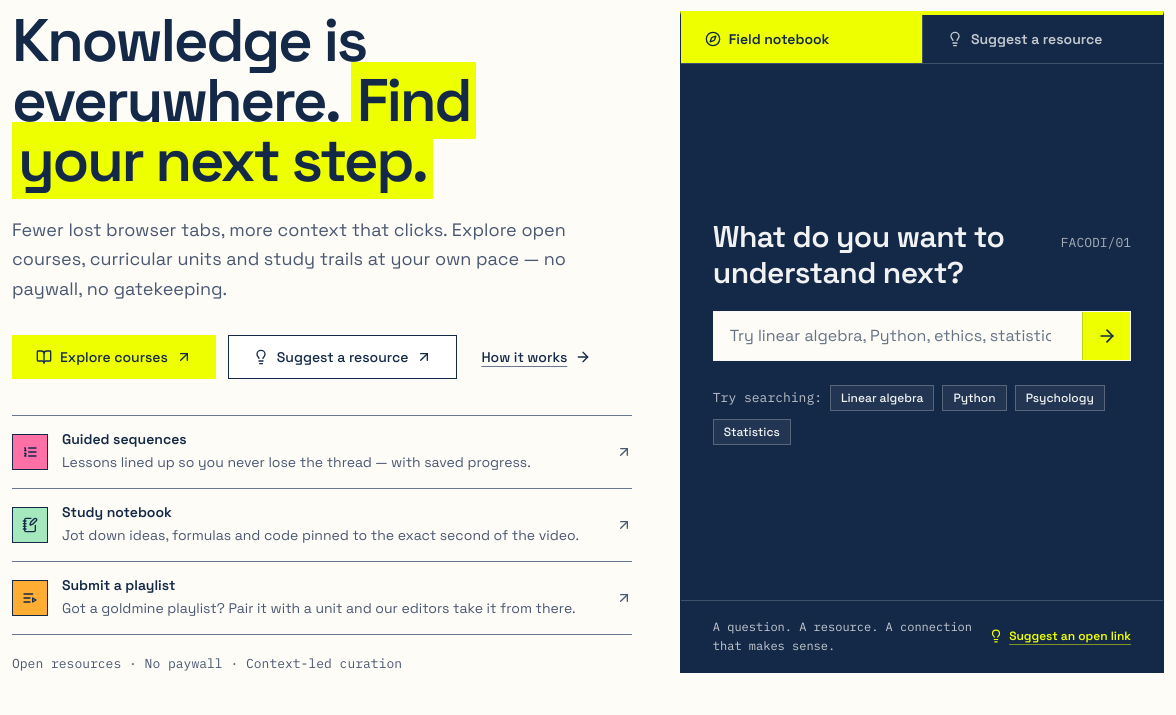
it: HomeHero › supports switching to the suggest notebook tab, live URL recognition, validation, and /suggest?url= routing
Step 1. Click the button "Suggest an open link" → point(1060, 636), box [989, 628, 1131, 644]
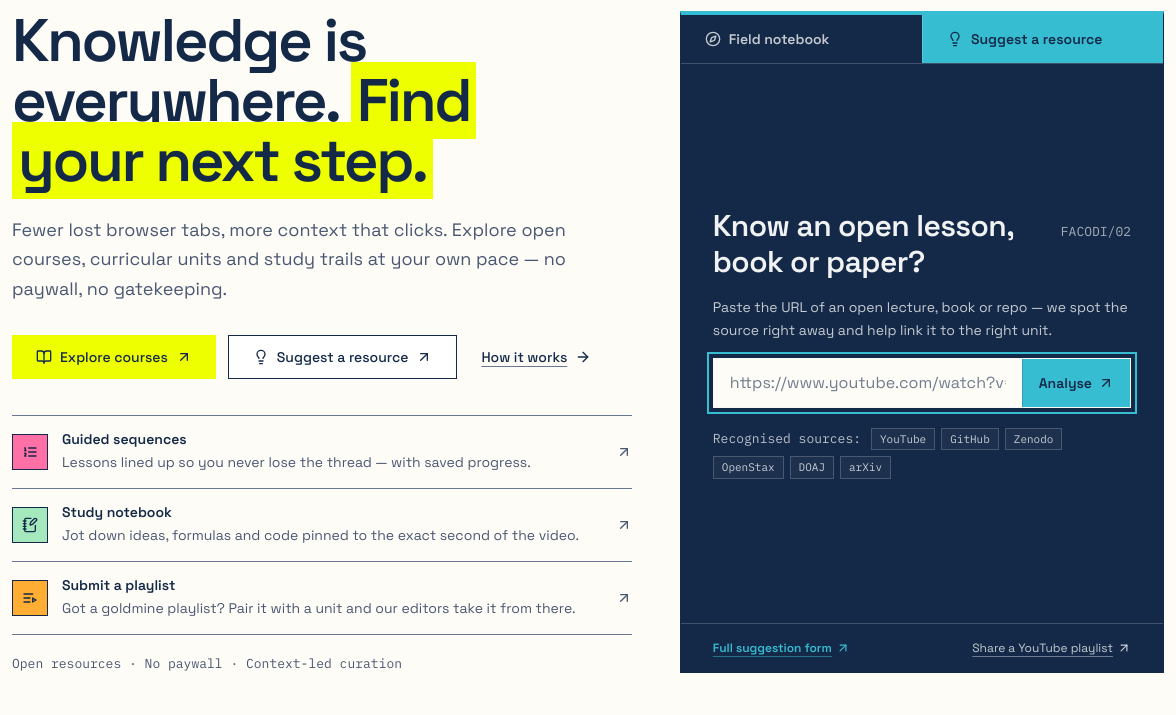
Step 2. Type "not-a-valid-url" into the field labelled "Know an open lesson, book or paper?" → point(868, 383), box [714, 359, 1022, 407]
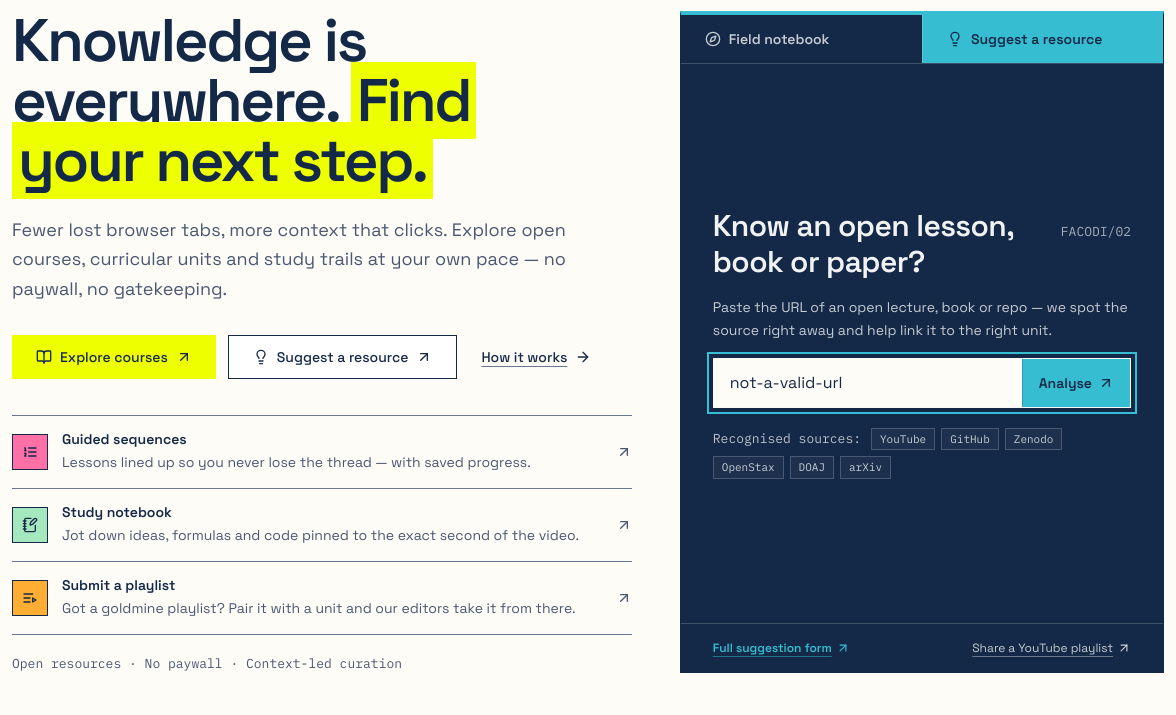
Step 3. Click the button with aria-label "Analyse resource on the suggestion page" → point(1076, 383), box [1022, 359, 1130, 407]
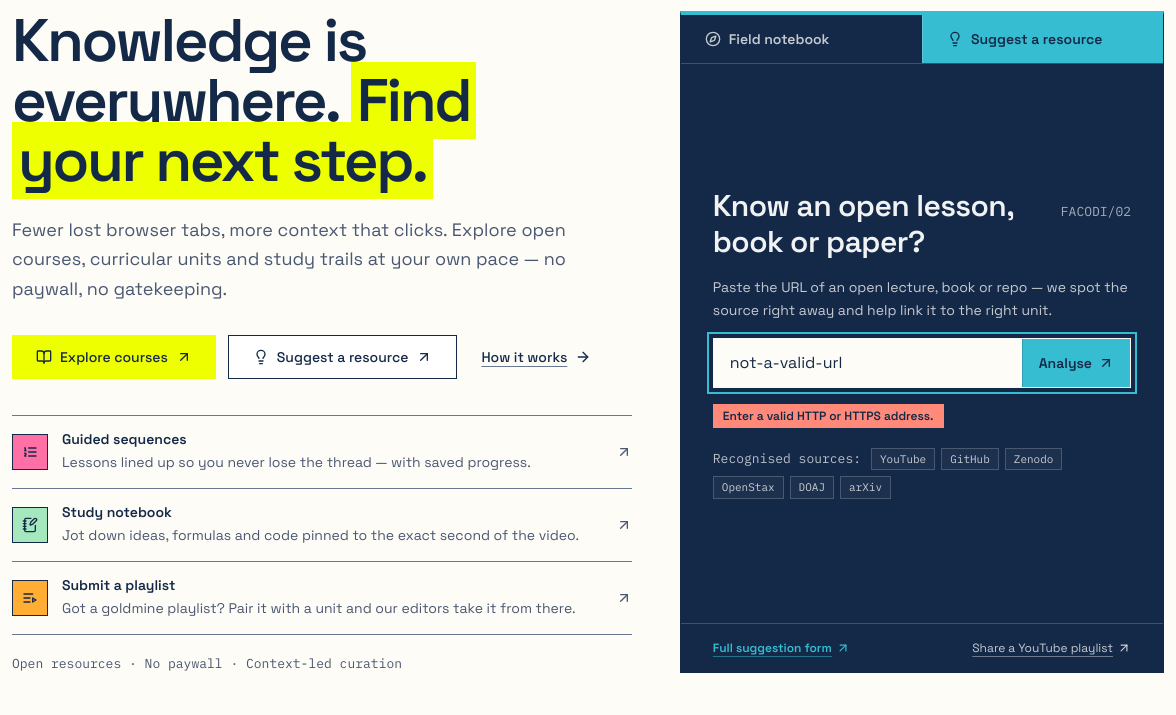
Expected: the message reads "Enter a valid HTTP or HTTPS address.", [723, 408, 934, 424]
Step 4. Clear the field labelled "Know an open lesson, book or paper?" → point(868, 363), box [714, 339, 1022, 387]
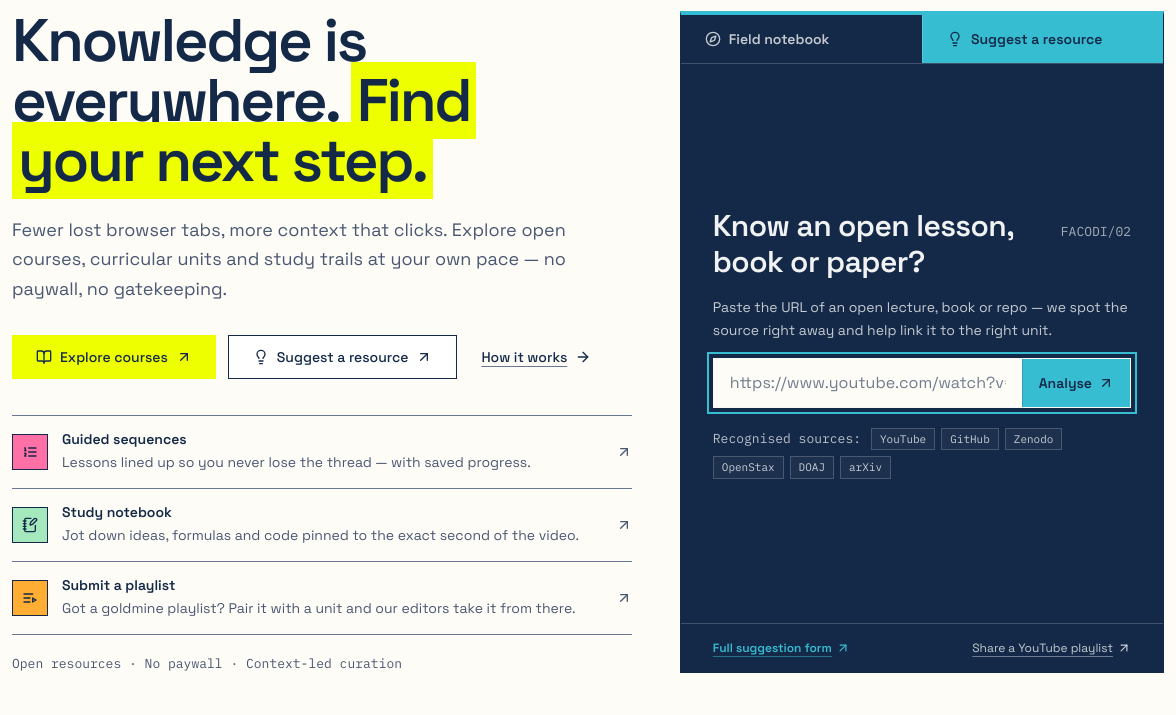
Step 5. Type "https://www.youtube.com/watch?v=kjBOesZCoqc" into the field labelled "Know an open lesson, book or paper?" → point(868, 383), box [714, 359, 1022, 407]
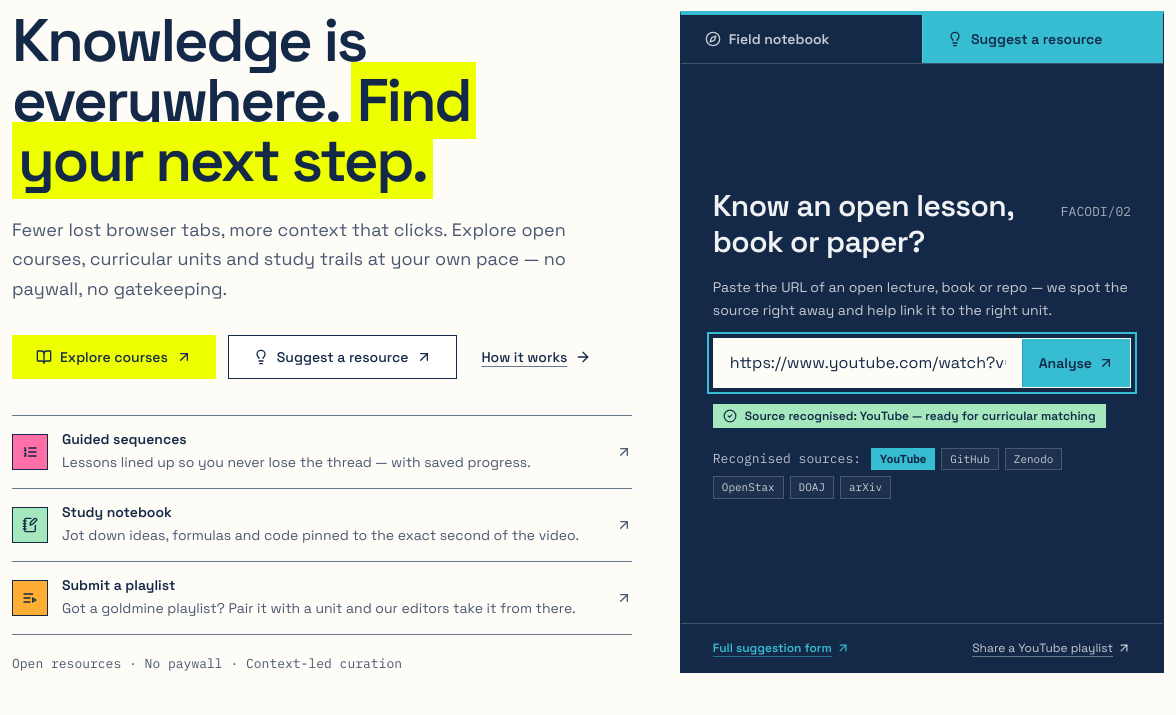
Expected: the message reads "Source recognised: YouTube — ready for curricular matching", [745, 408, 1096, 424]
Step 6. Click the button with aria-label "Analyse resource on the suggestion page" → point(1076, 363), box [1022, 339, 1130, 387]
(page scrolled)
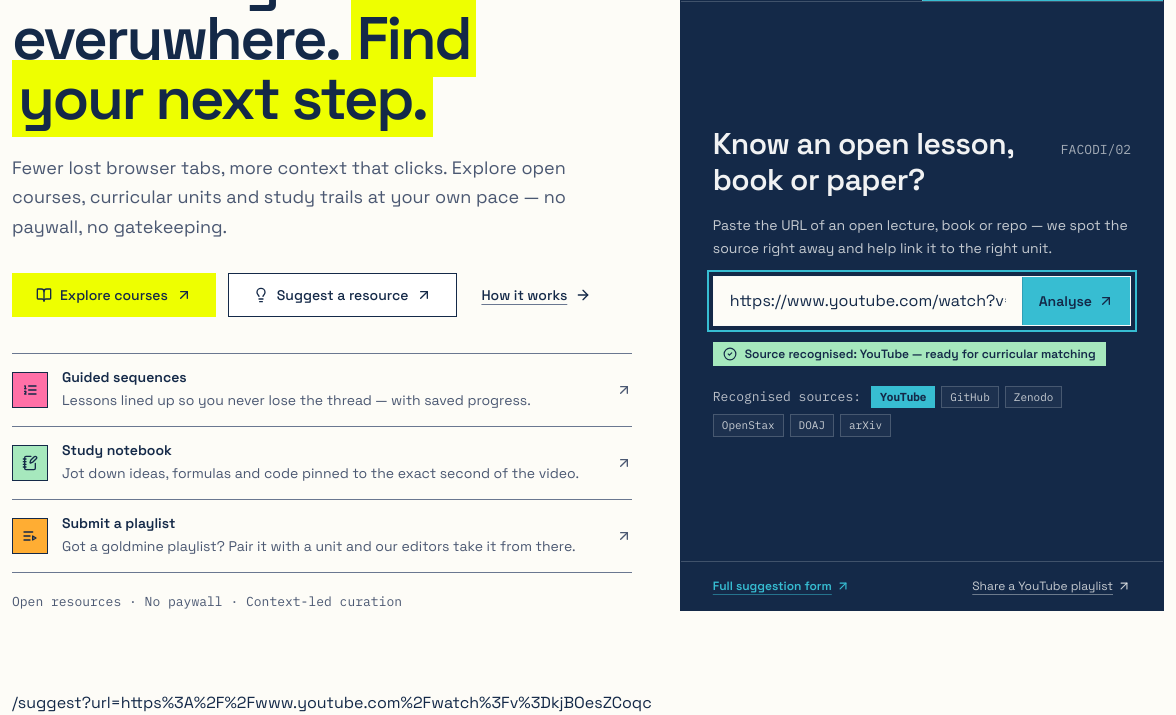
Expected: the text with test id "where" reads "/suggest?url=https%3A%2F%2Fwww.youtube.com%2Fwatch%3Fv%3DkjBOesZCoqc", [12, 692, 652, 713]
